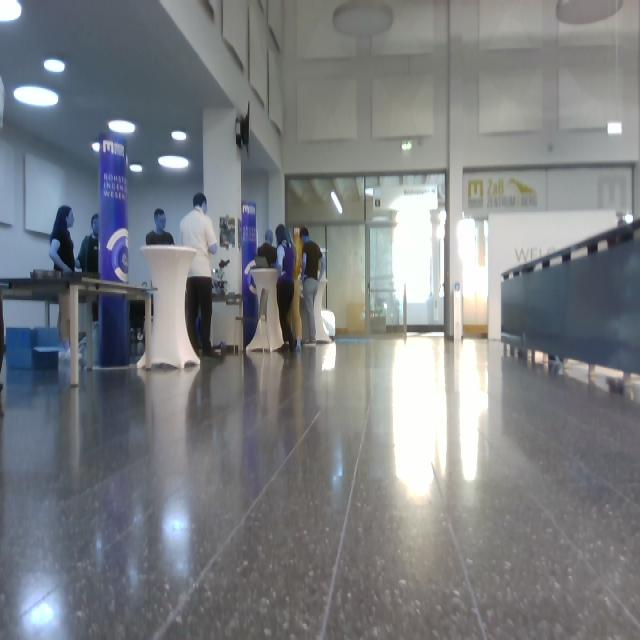door: (365, 172, 447, 334), (326, 222, 367, 336)
light bulb: (333, 1, 394, 38), (556, 1, 624, 25), (14, 85, 59, 108), (457, 217, 477, 261), (30, 601, 55, 626), (1, 1, 22, 22), (158, 156, 189, 170), (108, 120, 136, 134), (44, 59, 65, 75), (331, 191, 343, 215), (607, 121, 622, 136), (172, 130, 187, 141), (436, 224, 445, 240), (401, 140, 413, 150), (91, 141, 101, 153), (130, 164, 143, 173)
person: (180, 193, 223, 358), (49, 205, 78, 352), (274, 224, 298, 352), (300, 226, 324, 344)
pillar: (94, 132, 132, 369)
staircase: (500, 216, 640, 394)
tiled floor: (2, 332, 639, 638)
